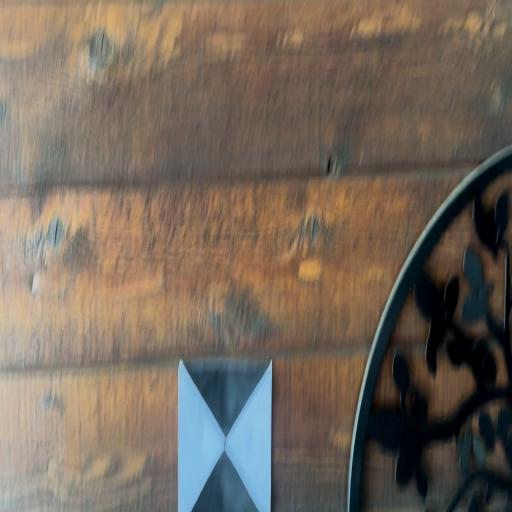target: (179, 362, 270, 510)
